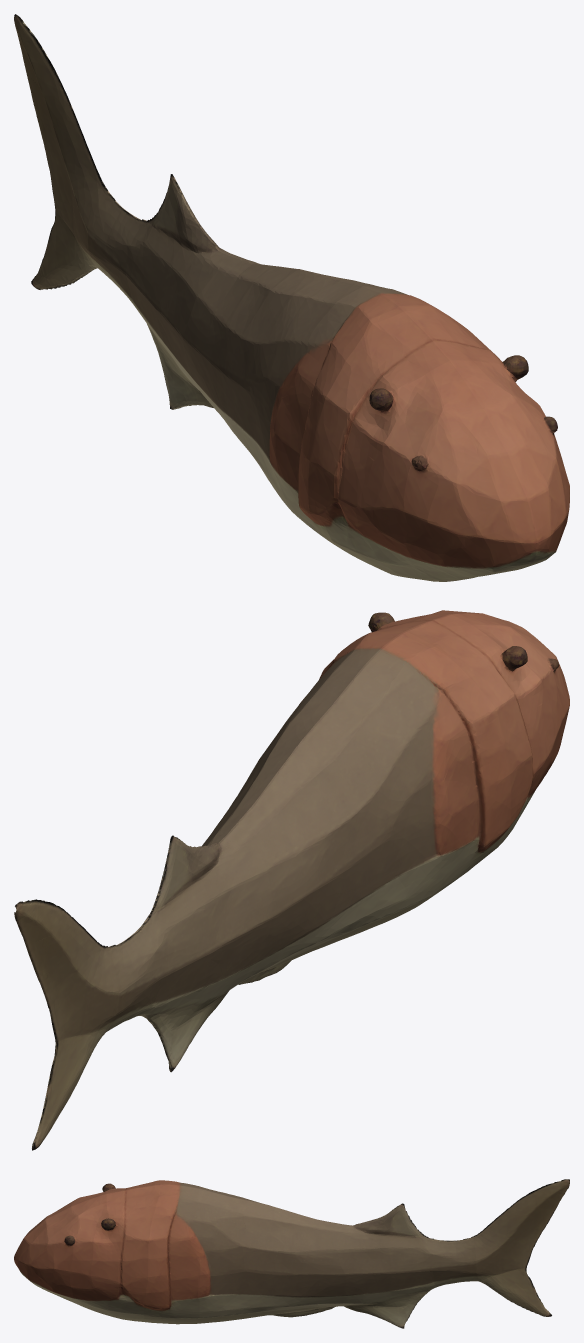
The picture shows the model from 3 angles, top to bottom: view 1: azimuth 30°, elevation 25°; view 2: azimuth 150°, elevation 25°; view 3: azimuth 270°, elevation 25°; orthographic projection. The views are drawn at different scales.
Parts seen in each view (by area): view 1: world; view 2: world; view 3: world.
Part boxes in pixels (x1,y1,x2,y2): world: (14,14,569,581); world: (14,610,569,1150); world: (14,1179,569,1328).
Size of the model in its own units: 0.0226 by 0.0297 by 0.1.
Materials: 1 (1 with a texture image).
